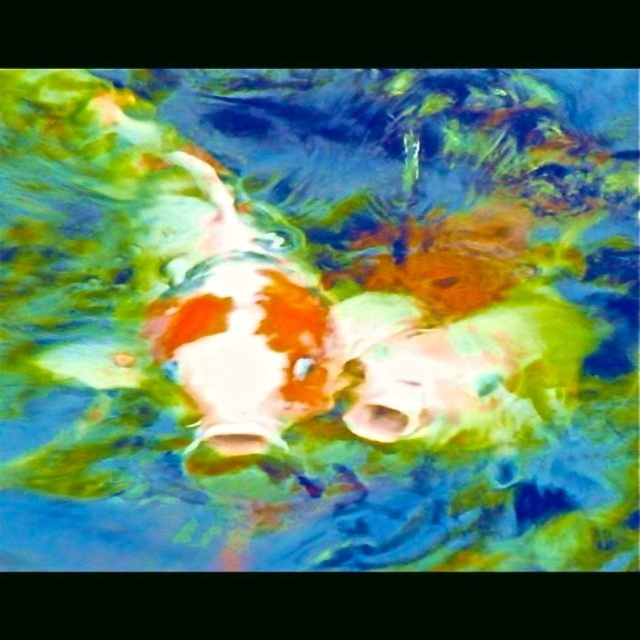Goldfish: (137, 229, 396, 472)
